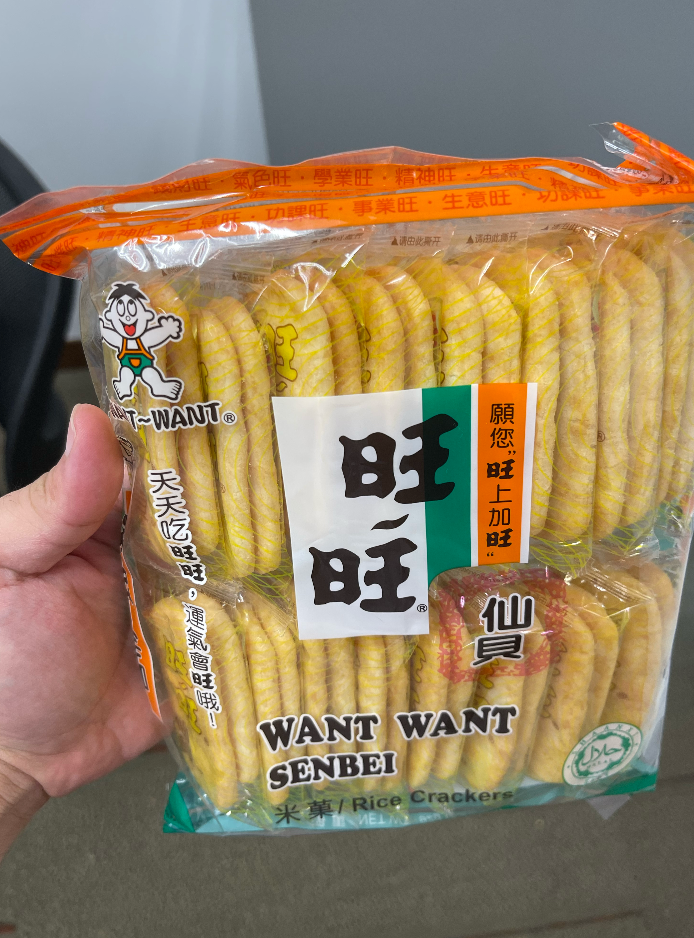crackers_1g-99g: (146, 210, 649, 805)
